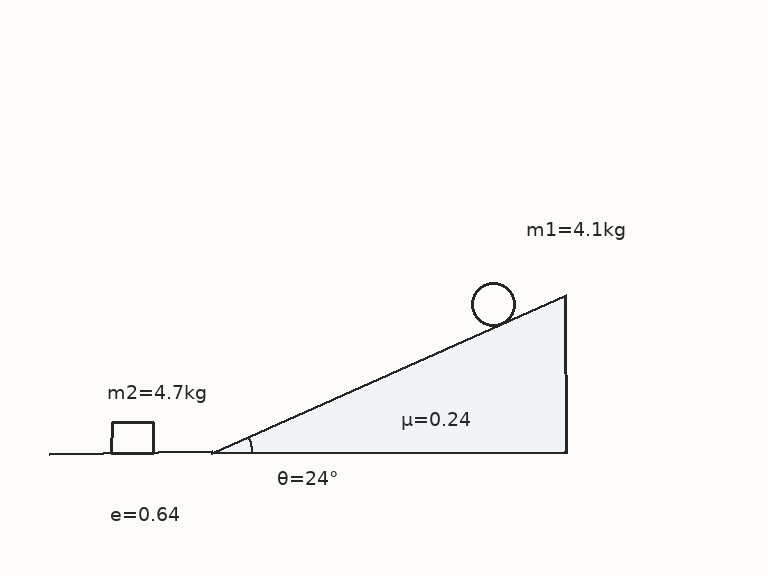ball: (469, 280, 517, 328)
block: (109, 420, 155, 455)
ramp: (210, 294, 568, 455)
